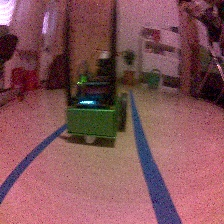rob: (66, 57, 128, 144)
